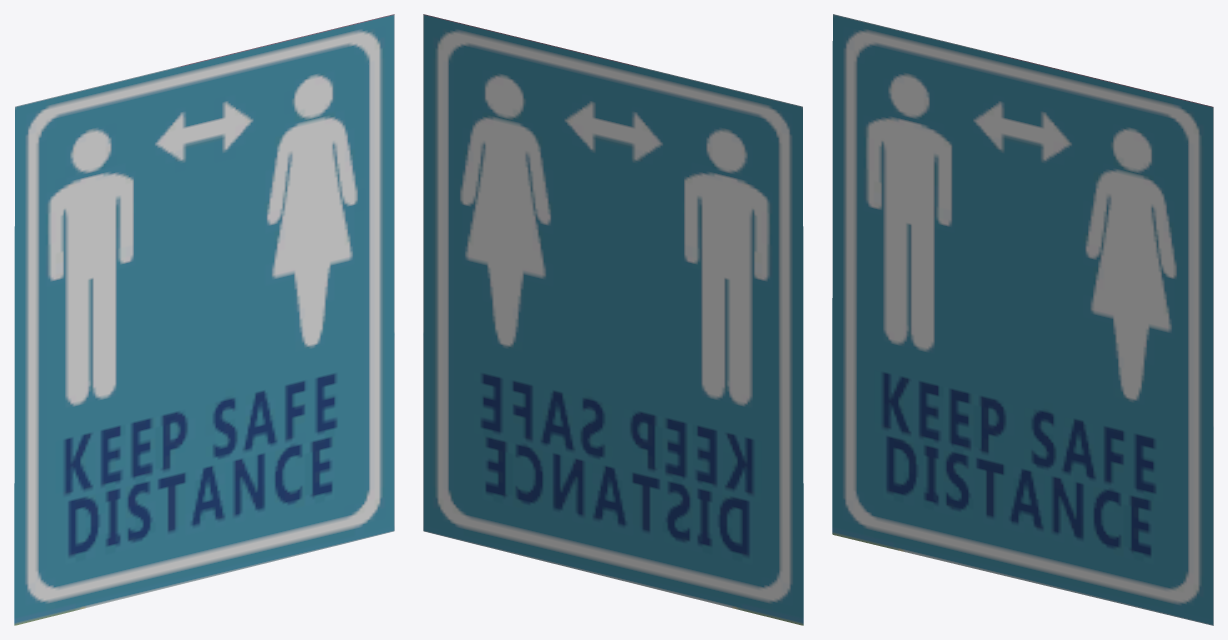
The model's file is SM_Sign_Covid_01.glb.
3 views of the same model, side by side, from view 1: azimuth 30°, elevation 25°; view 2: azimuth 150°, elevation 25°; view 3: azimuth 330°, elevation 25° (orthographic).
Parts seen in each view (by area): view 1: SM_Sign_Covid_01; view 2: SM_Sign_Covid_01; view 3: SM_Sign_Covid_01.
Boxes of the visible parts, box(x1,y1,x2,y2) form: SM_Sign_Covid_01: box(14, 14, 394, 625); SM_Sign_Covid_01: box(423, 14, 803, 625); SM_Sign_Covid_01: box(832, 14, 1213, 625).
Bounding box in the file's own units: 0.3399 × 0.4434 × 7.26e-08.
Materials: 1 (1 with a texture image).
